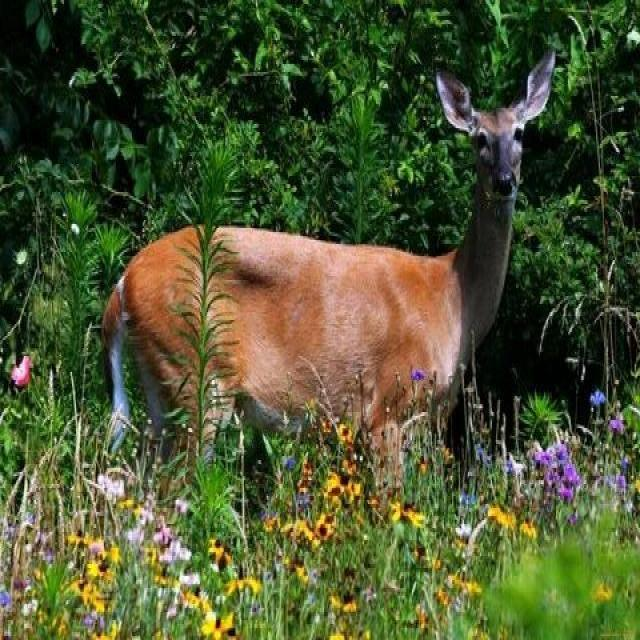deer: (121, 36, 573, 552)
